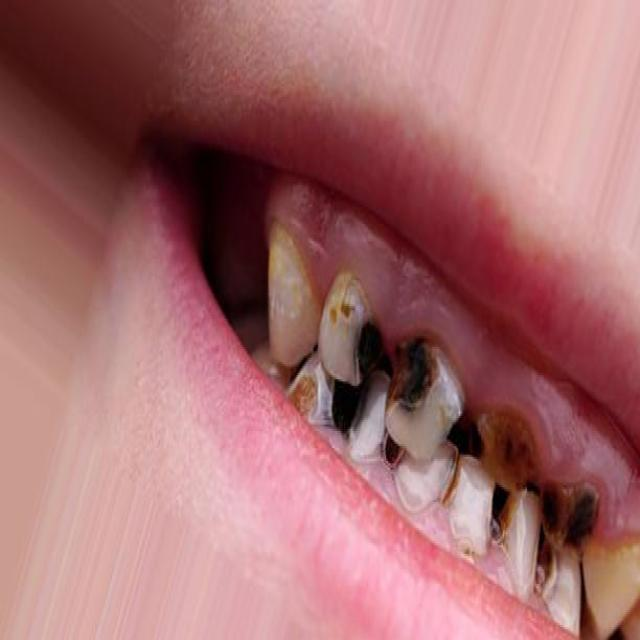caries: (384, 331, 443, 443), (473, 398, 535, 498), (328, 290, 384, 394), (537, 469, 592, 550), (322, 376, 369, 450), (525, 530, 561, 604), (291, 361, 326, 435), (377, 419, 414, 485)
